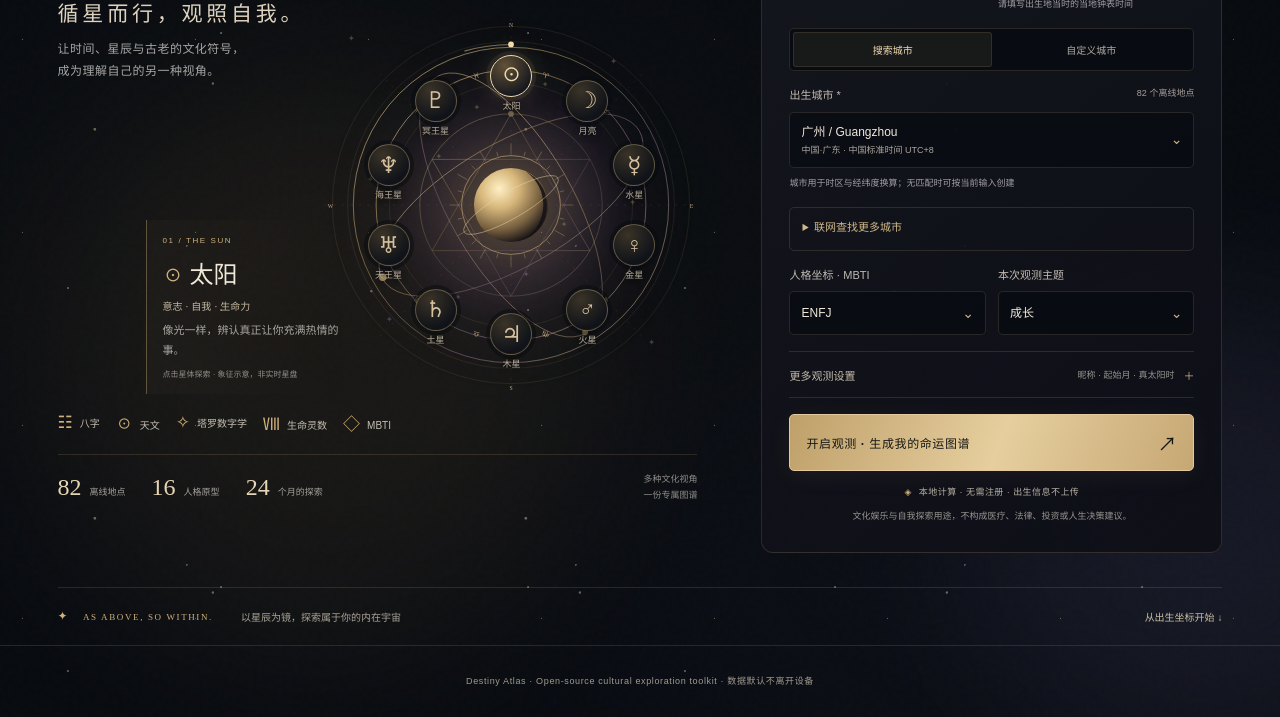
it: report reading modes › defaults to a short reading without mounting charts or the sixteen-image gallery
(page scrolled)
expect the element "阅读版本" is not shown: met
What coordinates should you click on to do the following:
click the button "开启观测 · 生成我的命运图谱 ↗"
I would click on:
 (888, 444)
Its box is [790,414,1194,472].
(page scrolled)
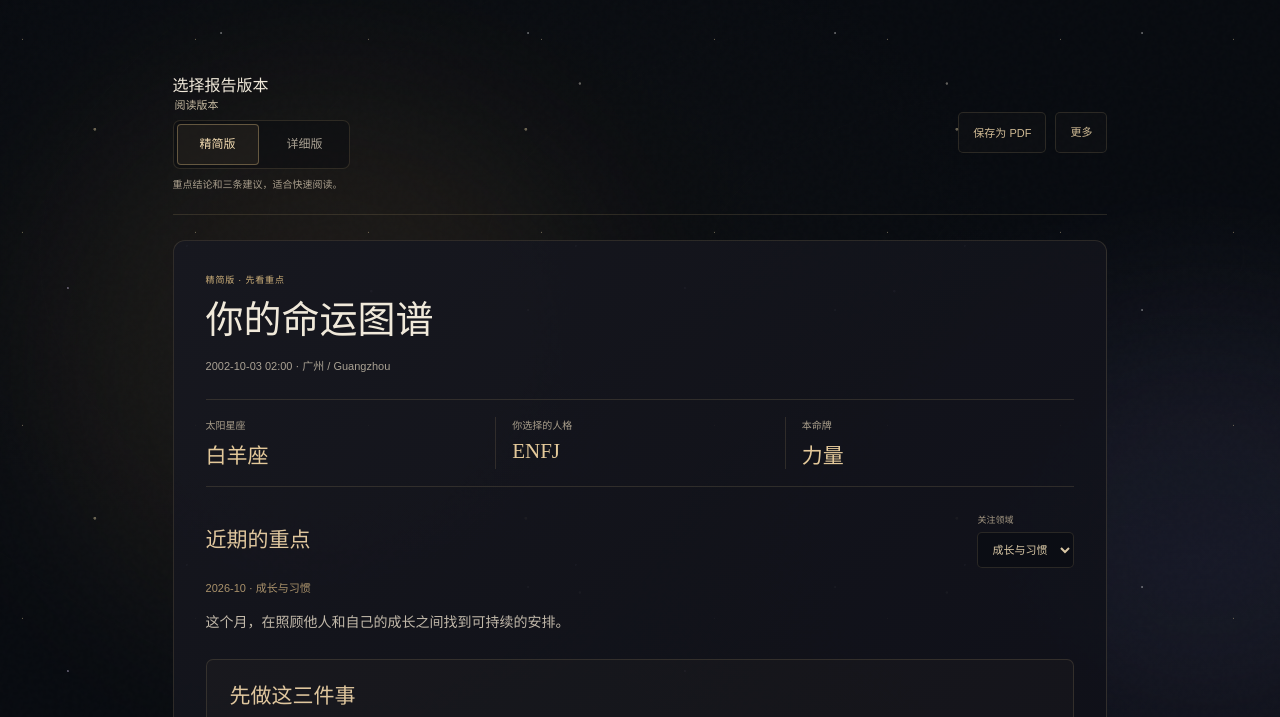
expect the radio button labelled "精简版" is checked: met, box [177,124,259,165]
expect the heading "先做这三件事" is shown: met, box [230,684,356,708]
